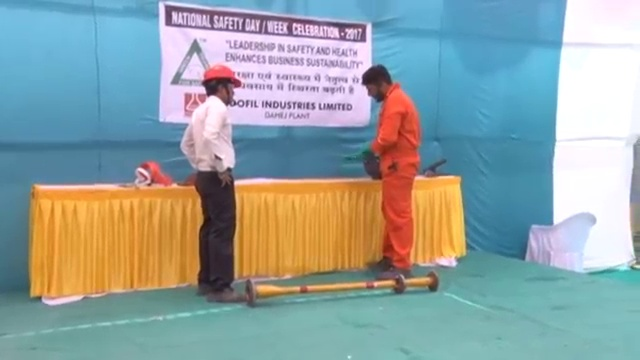helmet: (198, 66, 244, 90)
helmet_off: (359, 62, 393, 104)
helmet_on: (199, 65, 245, 108)
person: (179, 65, 246, 305), (356, 61, 421, 280)
